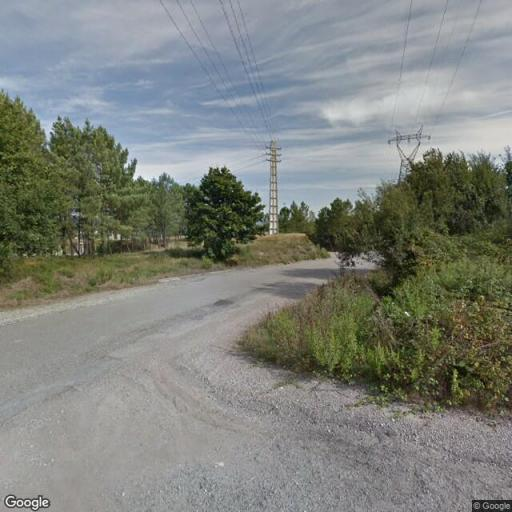mono_9: (262, 139, 284, 236)
wt_5: (386, 124, 432, 180)
